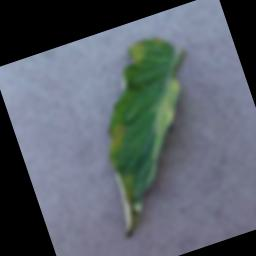Leaf_Mold: (138, 75, 192, 136), (101, 121, 137, 163), (123, 39, 151, 68)
